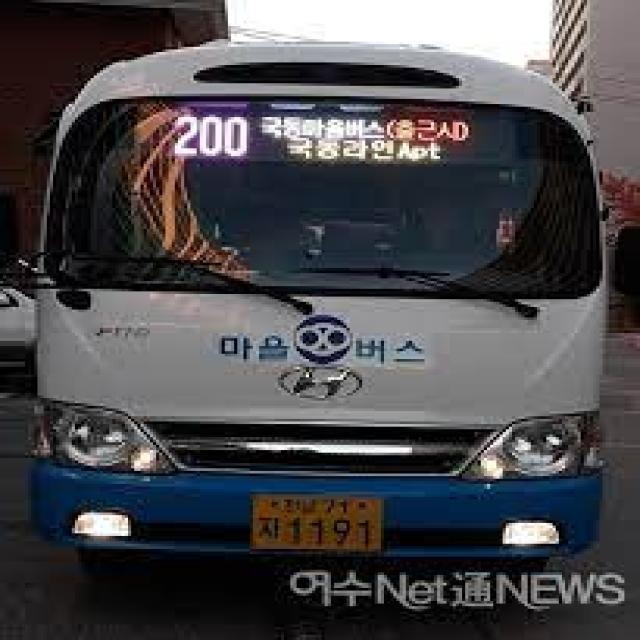bus-number: (170, 113, 252, 158)
